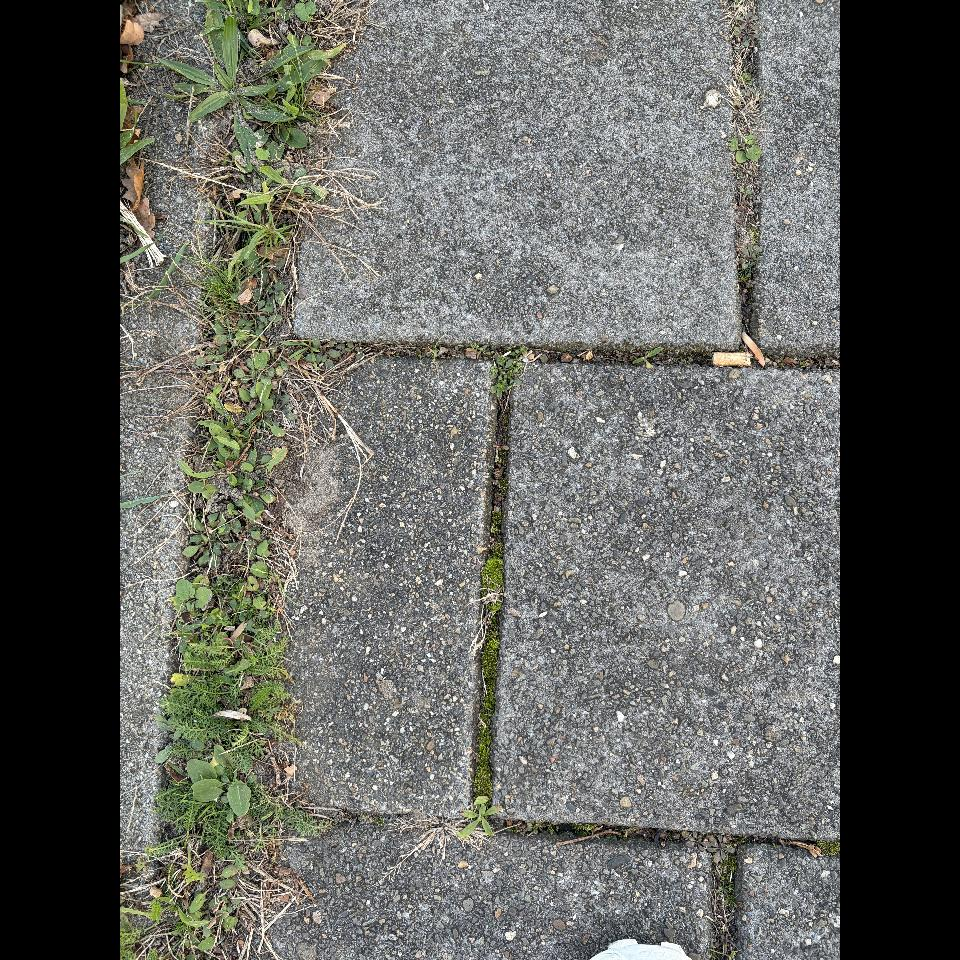weed: (156, 258, 337, 866), (155, 575, 320, 883), (219, 17, 295, 285), (120, 866, 255, 960), (175, 882, 241, 957), (259, 47, 267, 53), (268, 133, 272, 142), (255, 30, 259, 36), (279, 265, 283, 270), (258, 140, 259, 149), (250, 30, 253, 33), (254, 50, 258, 52), (267, 161, 270, 163), (247, 86, 249, 89), (253, 148, 255, 150), (265, 144, 267, 146), (251, 50, 253, 52), (268, 127, 269, 130), (258, 74, 259, 77), (281, 256, 282, 259), (253, 33, 254, 36), (263, 34, 264, 36)
